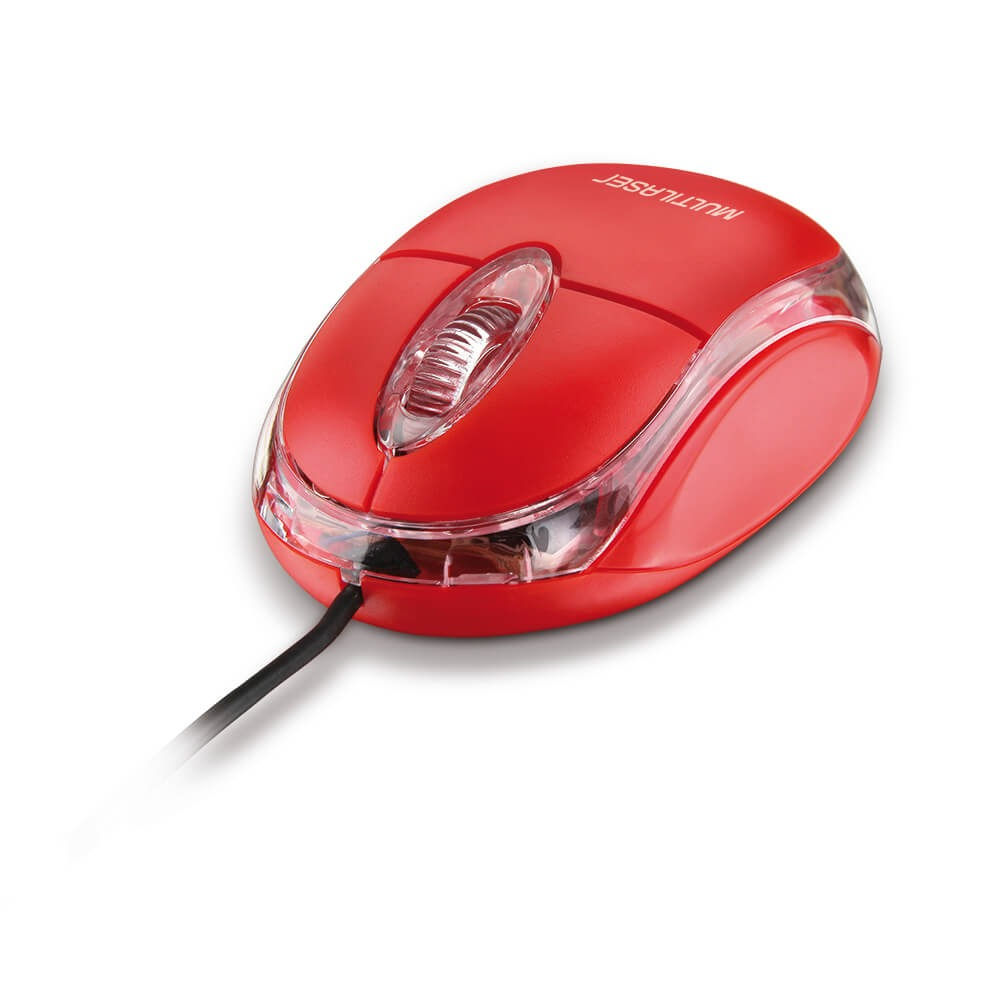mouse: (231, 155, 886, 652)
